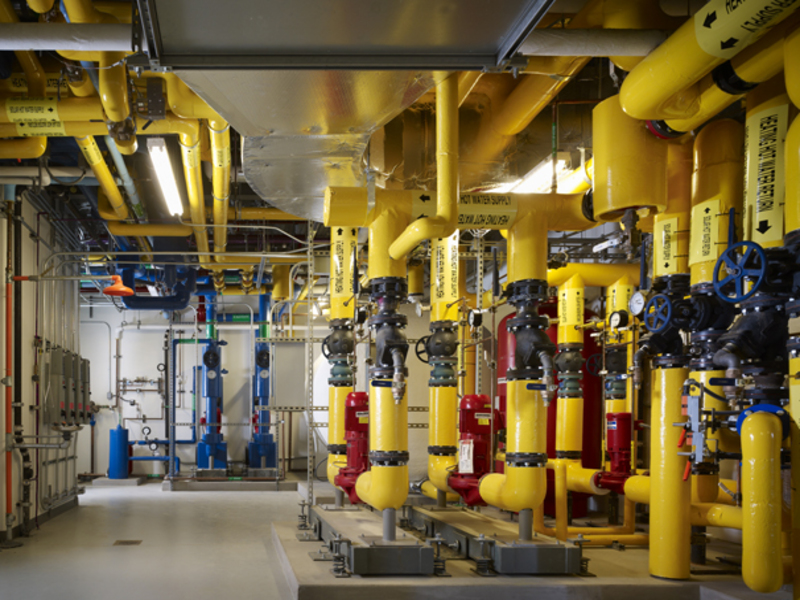valve: (479, 350, 495, 371)
